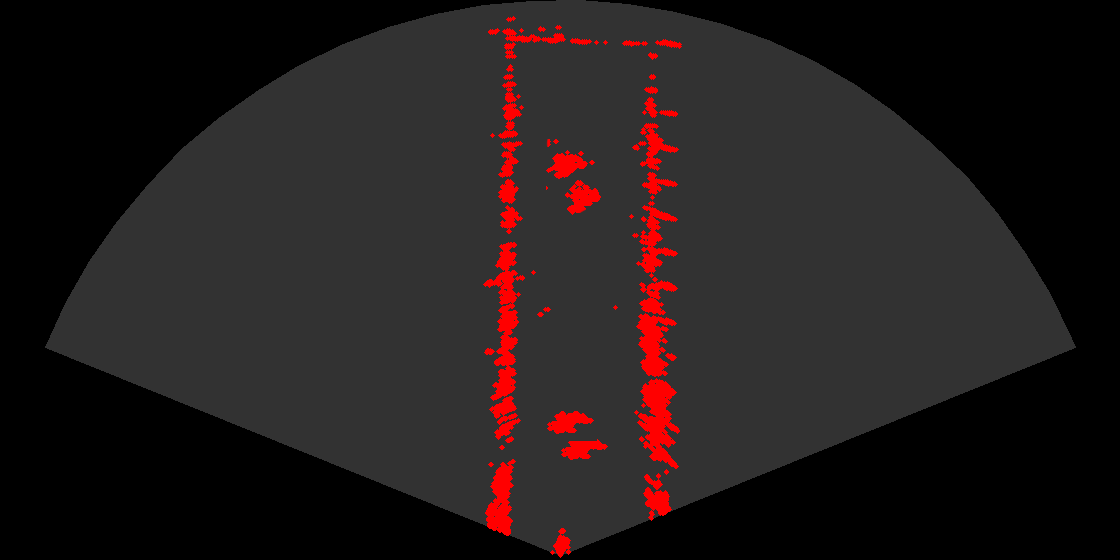AUV: (555, 435, 611, 467), (541, 409, 597, 441)
cage: (546, 139, 609, 223)
